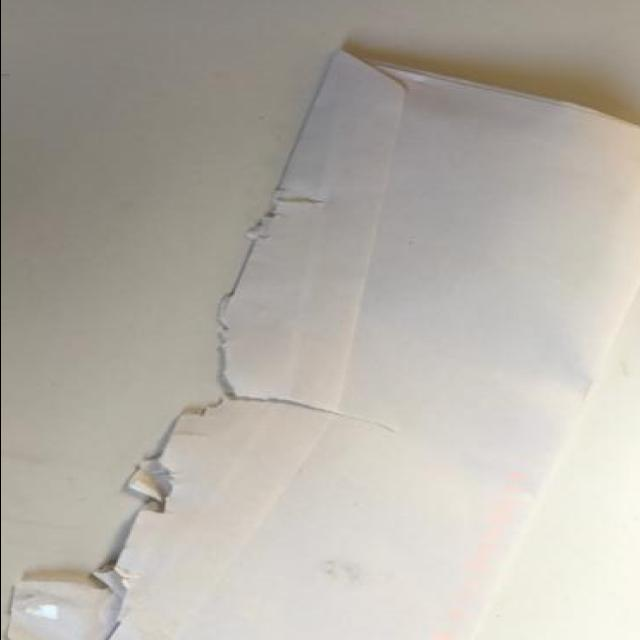kertas: (5, 47, 640, 640)
